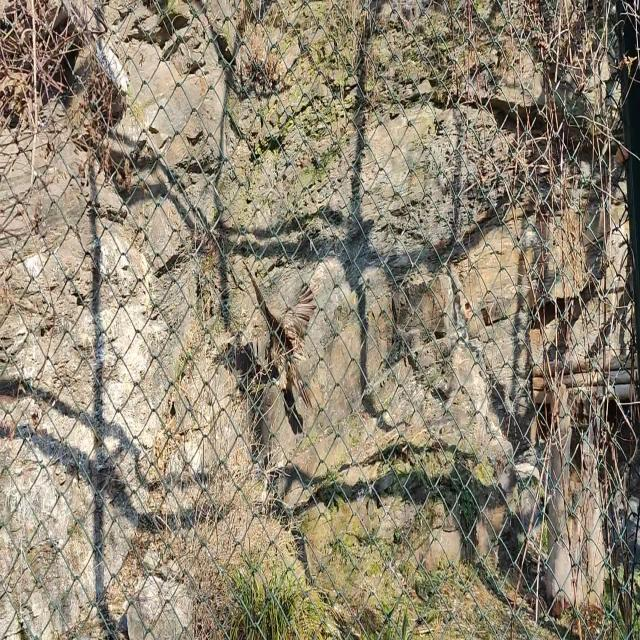bird: (242, 260, 317, 415)
